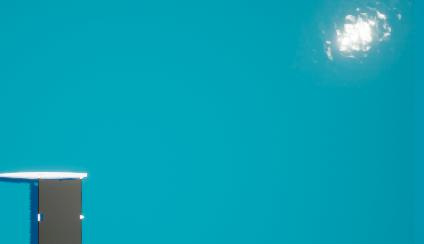boat: (0, 169, 87, 244)
drone: (39, 180, 81, 244)
land_base: (312, 0, 414, 72)
